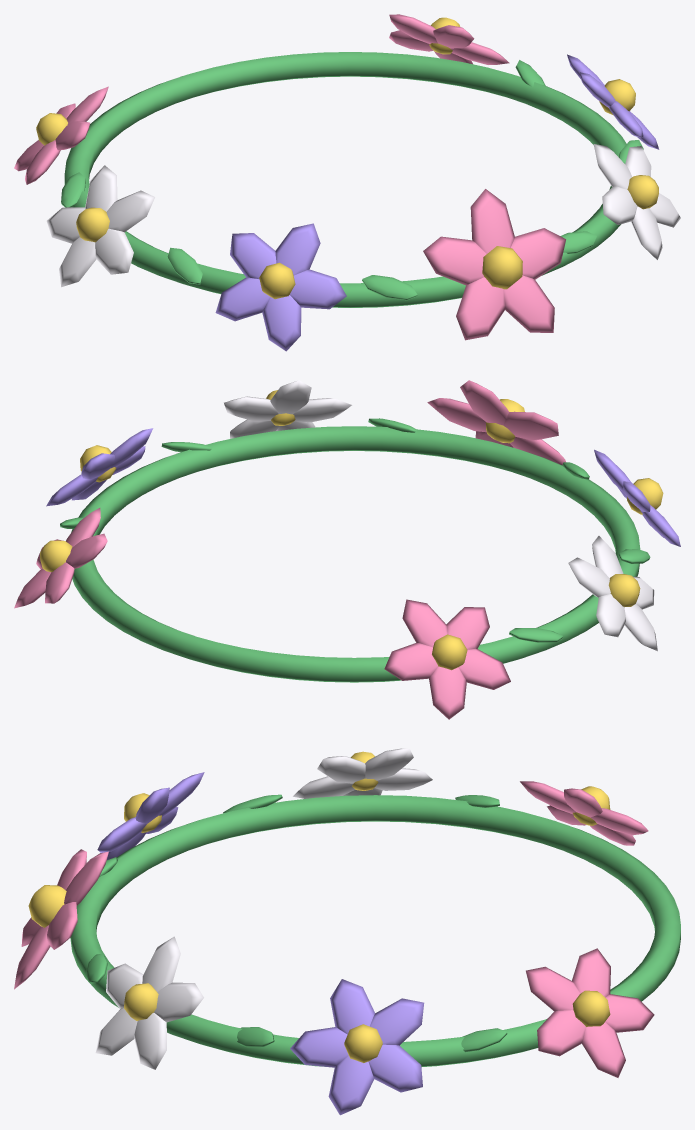
File: hat-flower-crown.glb
The picture shows the model from 3 angles, top to bottom: view 1: azimuth 30°, elevation 25°; view 2: azimuth 150°, elevation 25°; view 3: azimuth 270°, elevation 25°; orthographic projection. The views are drawn at different scales.
Visible parts, largest first — view 1: hat-flower-crown-mesh; view 2: hat-flower-crown-mesh; view 3: hat-flower-crown-mesh.
Part boxes in pixels (x1=…): hat-flower-crown-mesh: x1=14, y1=14, x2=680, y2=351; hat-flower-crown-mesh: x1=14, y1=380, x2=680, y2=719; hat-flower-crown-mesh: x1=14, y1=748, x2=680, y2=1115.
Bounding box in the file's own units: 2.25 × 0.4292 × 2.06.
